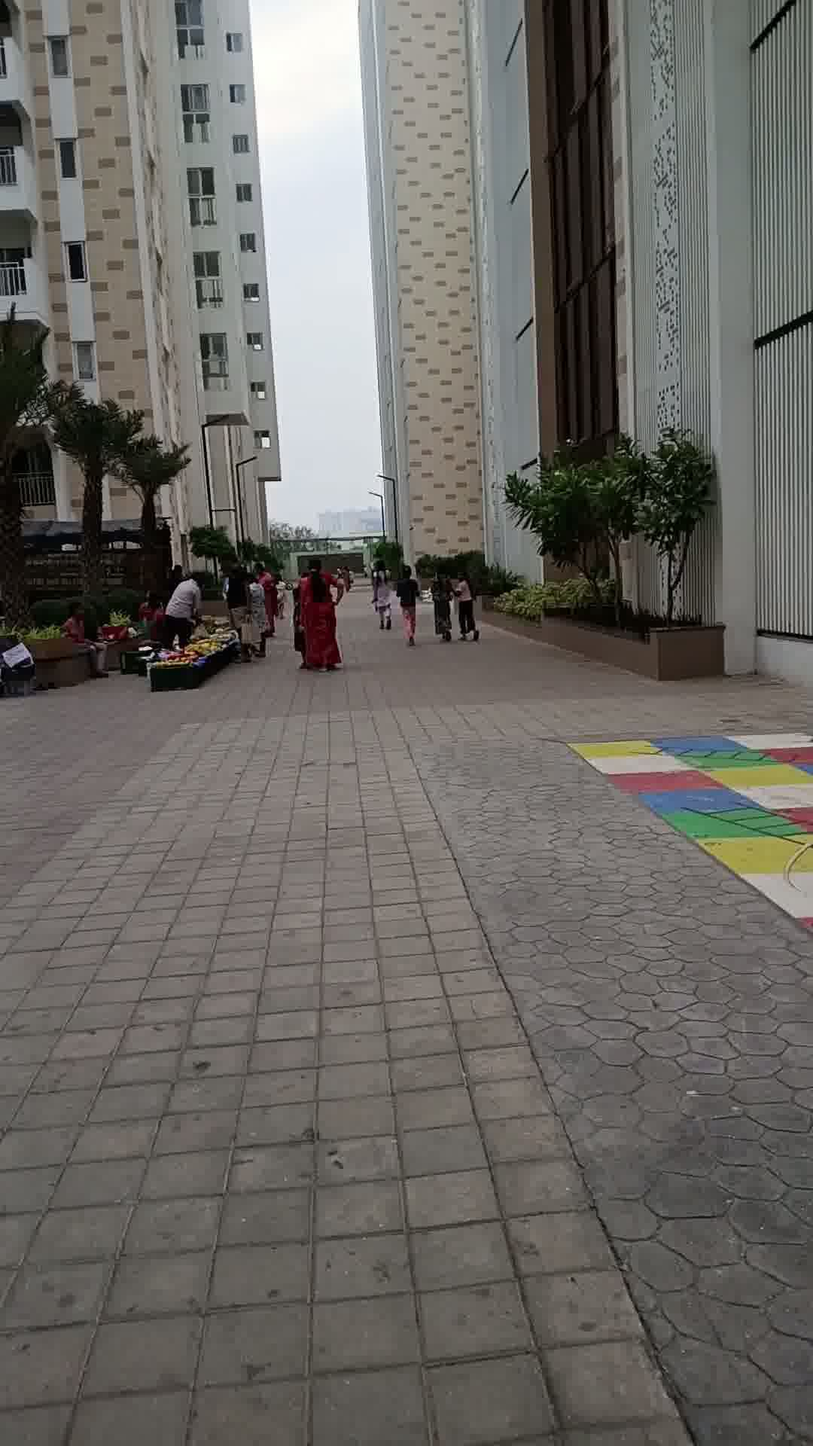person: (288, 551, 352, 681), (147, 563, 211, 648), (221, 552, 264, 670), (250, 552, 284, 650), (394, 553, 420, 651), (364, 550, 392, 636), (427, 560, 454, 645), (454, 556, 473, 655)
tree: (613, 413, 746, 638), (41, 359, 135, 632), (496, 442, 646, 613), (0, 287, 61, 633), (117, 420, 183, 629)
